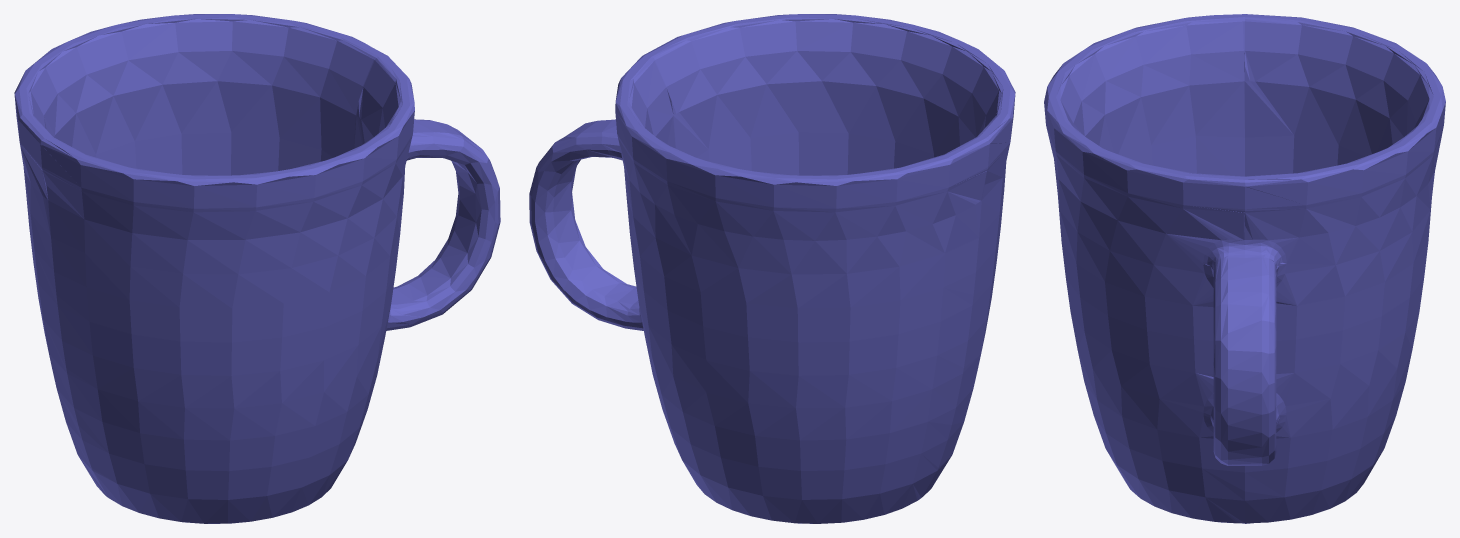
File: mug.dae
3 views of the same model, side by side, from view 1: azimuth 30°, elevation 25°; view 2: azimuth 150°, elevation 25°; view 3: azimuth 270°, elevation 25° (orthographic).
Parts seen in each view (by area): view 1: mugbase; view 2: mugbase; view 3: mugbase.
Boxes of the visible parts, left/top/right/bottom form: mugbase: left=14, top=14, right=500, bottom=523; mugbase: left=529, top=14, right=1015, bottom=523; mugbase: left=1044, top=14, right=1445, bottom=523.
Size of the model in its own units: 0.1366 by 0.1057 by 0.1092.
